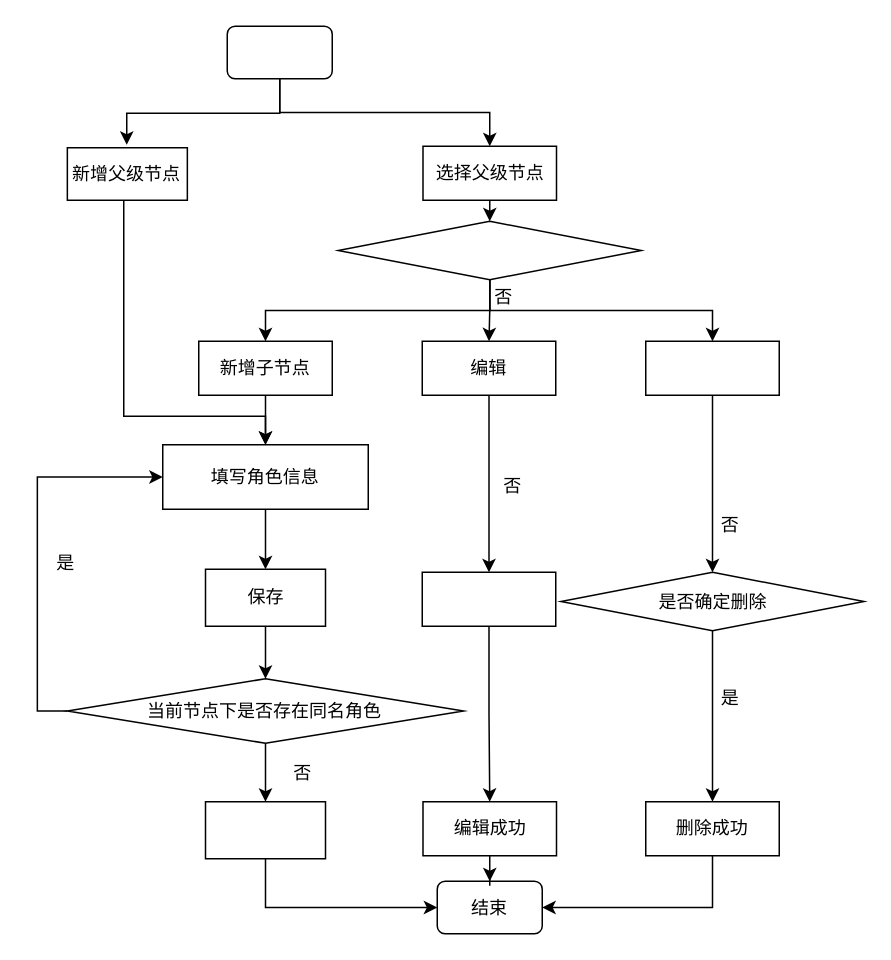
The diagram is 891 pixels wide and 960 high, and some of its shapes have lost their labels. The centre of each missing label's shape, as x and y in pixels:
保存成功: point 265,829
删除: point 711,367
开始: point 279,52
是否超级管理员: point 489,250
编辑信息: point 488,598
